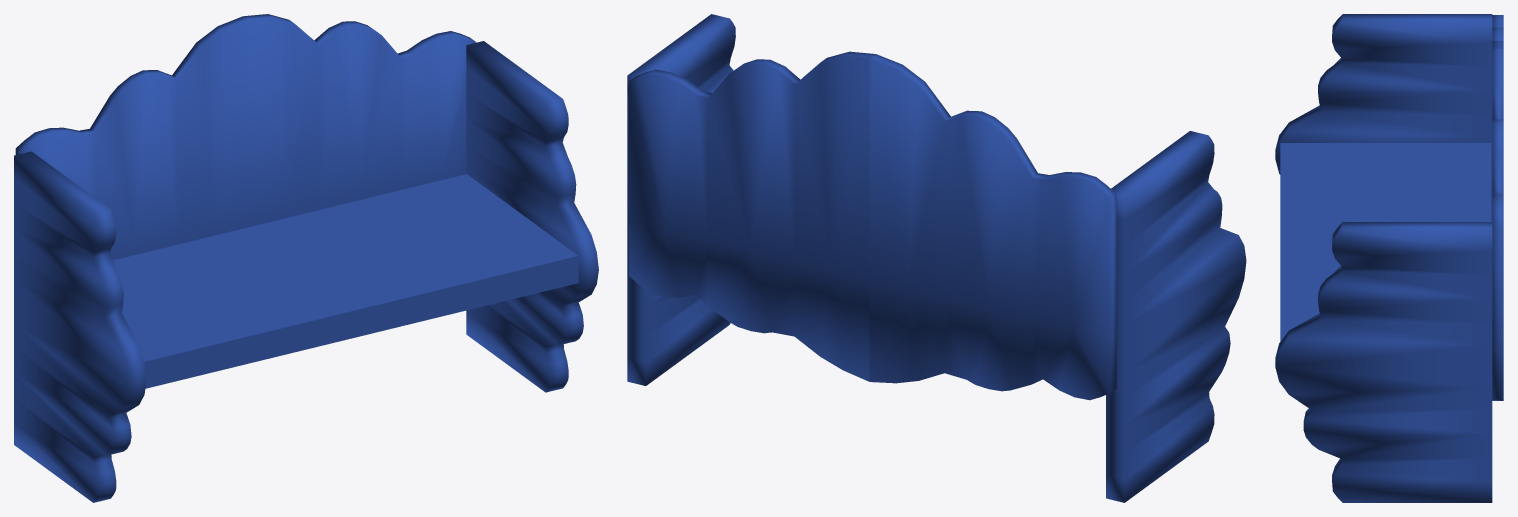
File: Bookshelve.fbx
3 renders of one model, left to right at view 1: azimuth 30°, elevation 25°; view 2: azimuth 150°, elevation 25°; view 3: azimuth 270°, elevation 25°, orthographic. The views are drawn at different scales.
Visible parts, largest first — view 1: Cube.015; view 2: Cube.015; view 3: Cube.015.
Part boxes in pixels (x1,y1,x2,y2): Cube.015: [14, 14, 598, 502]; Cube.015: [627, 14, 1246, 502]; Cube.015: [1275, 14, 1503, 502].
Bounding box in the file's own units: 67.19 × 50.14 × 30.04.
